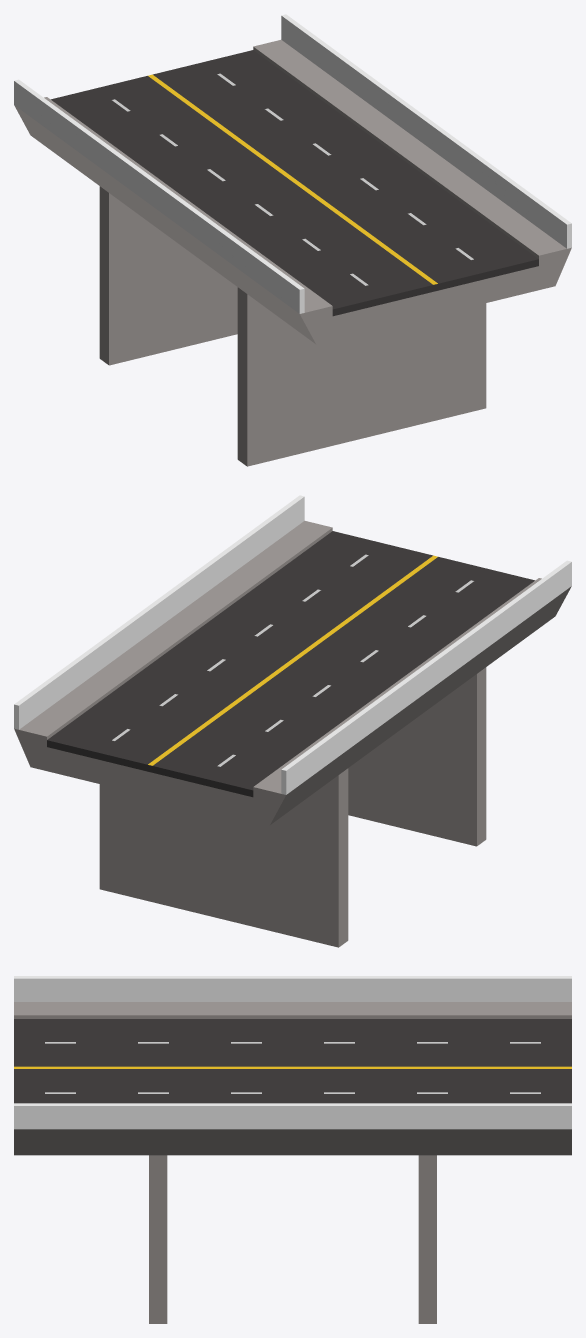
File: Highway_straight.glb
3 views of the same model, one above another, from view 1: azimuth 30°, elevation 25°; view 2: azimuth 150°, elevation 25°; view 3: azimuth 270°, elevation 25° (orthographic). The views are drawn at different scales.
Parts seen in each view (by area): view 1: huitugou_2159_1379; view 2: huitugou_2159_1379; view 3: huitugou_2159_1379.
Boxes of the visible parts, x1,y1,x2,y2 form: huitugou_2159_1379: (14,14,571,466); huitugou_2159_1379: (14,495,571,947); huitugou_2159_1379: (14,976,571,1323).
Bounding box in the file's own units: 8.25 × 6.7 × 15.
1 material, 1 textured.
